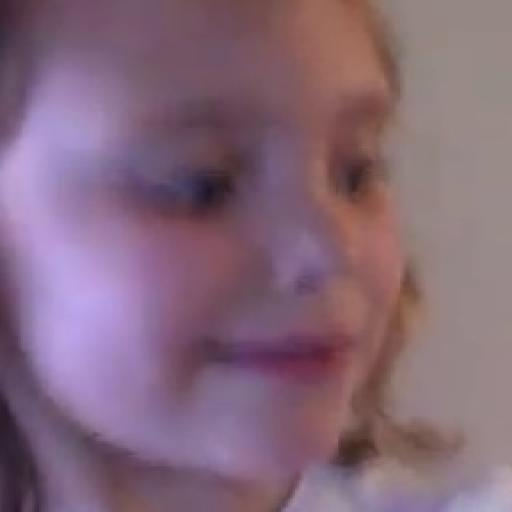Autism: (18, 25, 512, 512)
